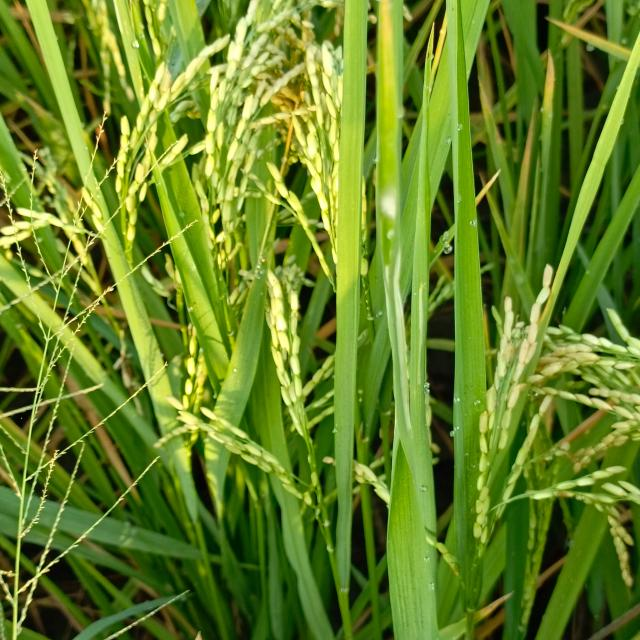Brown spot: (513, 51, 562, 202), (543, 12, 629, 50), (472, 70, 508, 150), (473, 166, 505, 209)
brown plant hopper: (366, 186, 445, 462)
